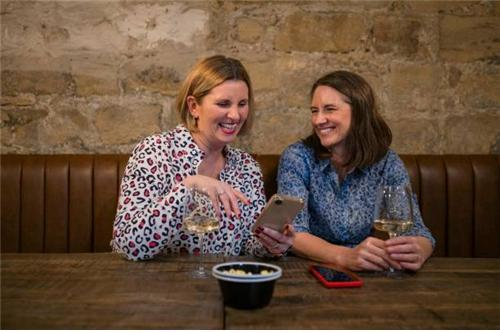alcohol: (370, 184, 414, 280), (183, 186, 223, 277)
